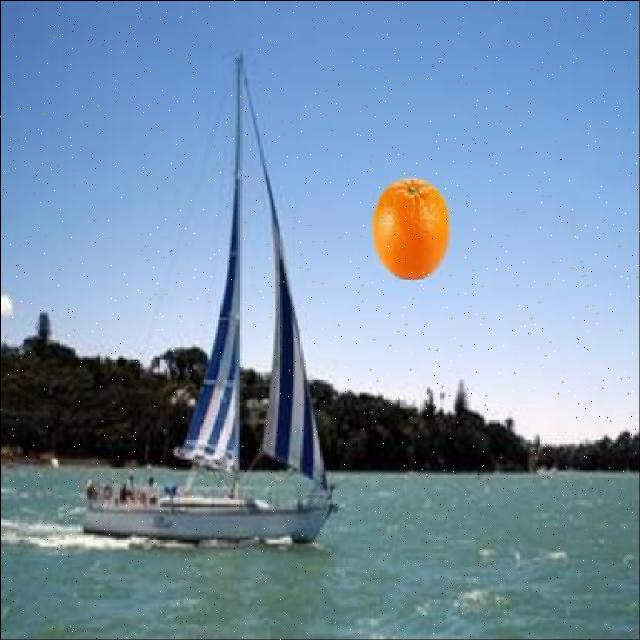Orange: (371, 177, 451, 283)
